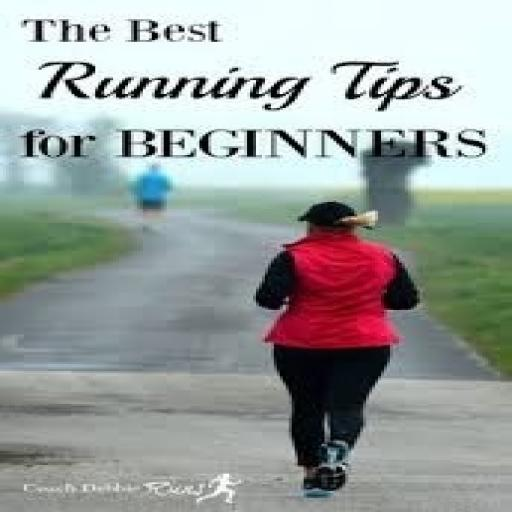running: (250, 199, 426, 498)
